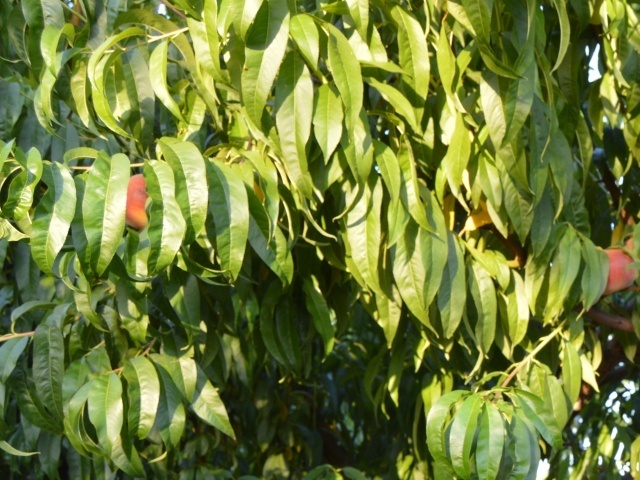peach: (119, 171, 161, 232), (597, 242, 639, 298)
